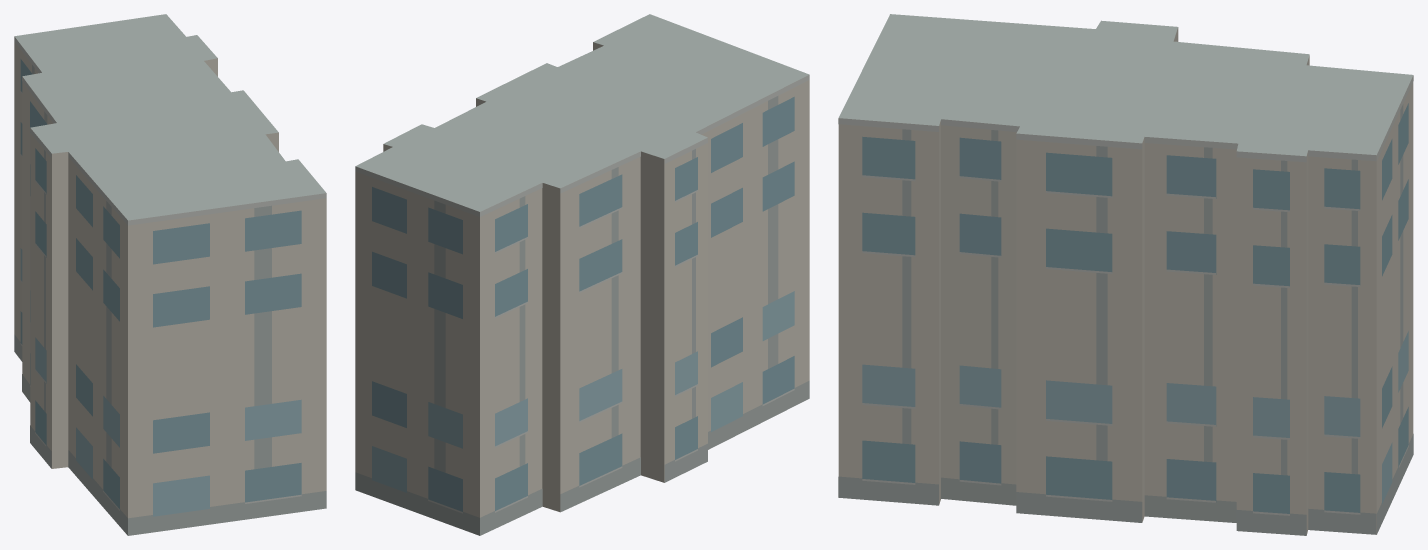
File: survey-upis-32988755.glb
3 views of the same model, side by side, from view 1: azimuth 30°, elevation 25°; view 2: azimuth 150°, elevation 25°; view 3: azimuth 270°, elevation 25° (orthographic). The views are drawn at different scales.
Visible parts, largest first — view 1: survey-upis-32988755.tmp; view 2: survey-upis-32988755.tmp; view 3: survey-upis-32988755.tmp.
Boxes of the visible parts, box(x1,y1,x2,y2) form: survey-upis-32988755.tmp: box(14, 14, 326, 535); survey-upis-32988755.tmp: box(355, 14, 809, 535); survey-upis-32988755.tmp: box(838, 14, 1413, 535).
Bounding box in the file's own units: 12.22 × 15.2 × 20.88.
